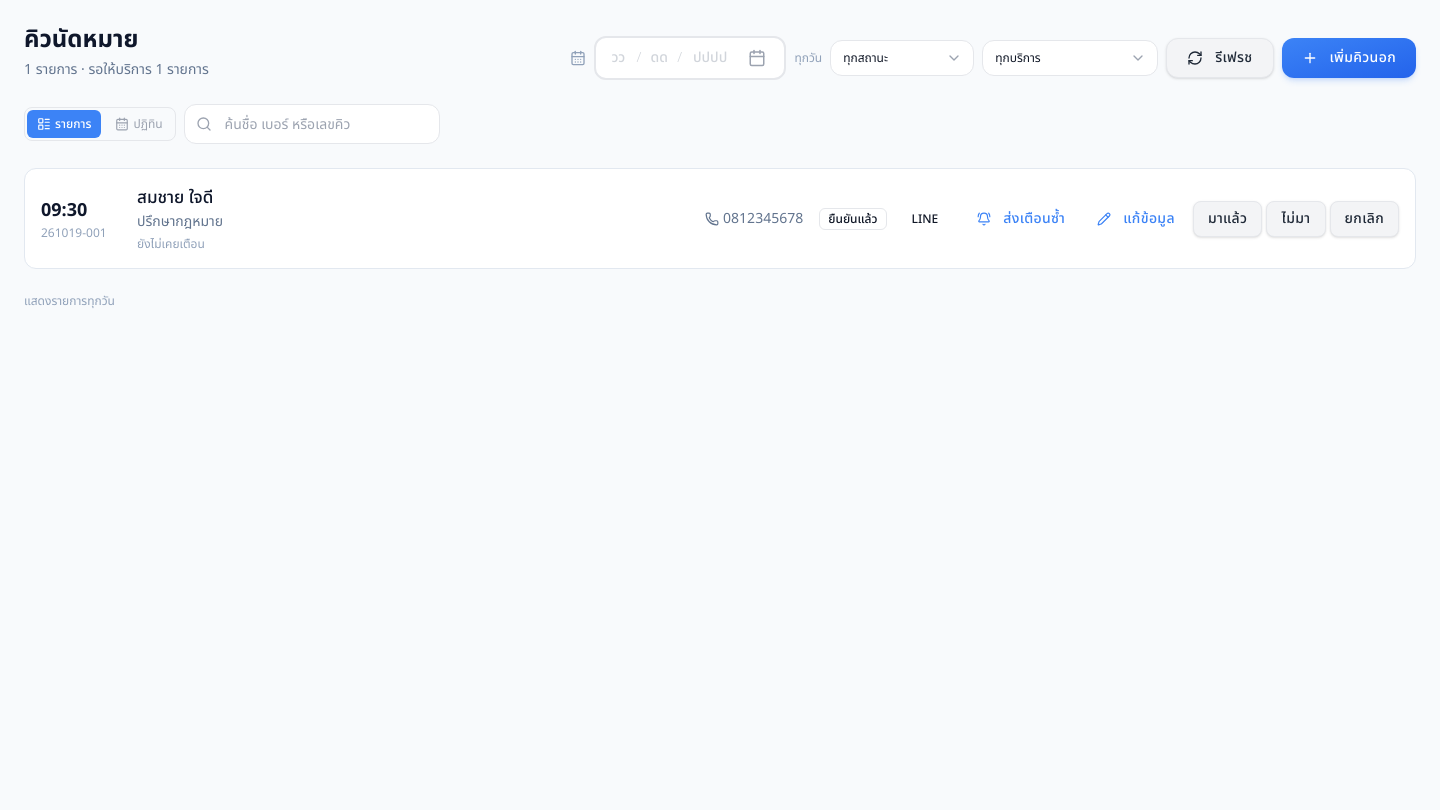
it: reminder resend › confirms before resending and updates the row
Check: the list is shown, box 24,168 -> 1416,269
Click the button with aria-label "ส่งเตือนซ้ำคิว 261019-001". click: {"x": 1021, "y": 219}
box: 963,201 -> 1079,237
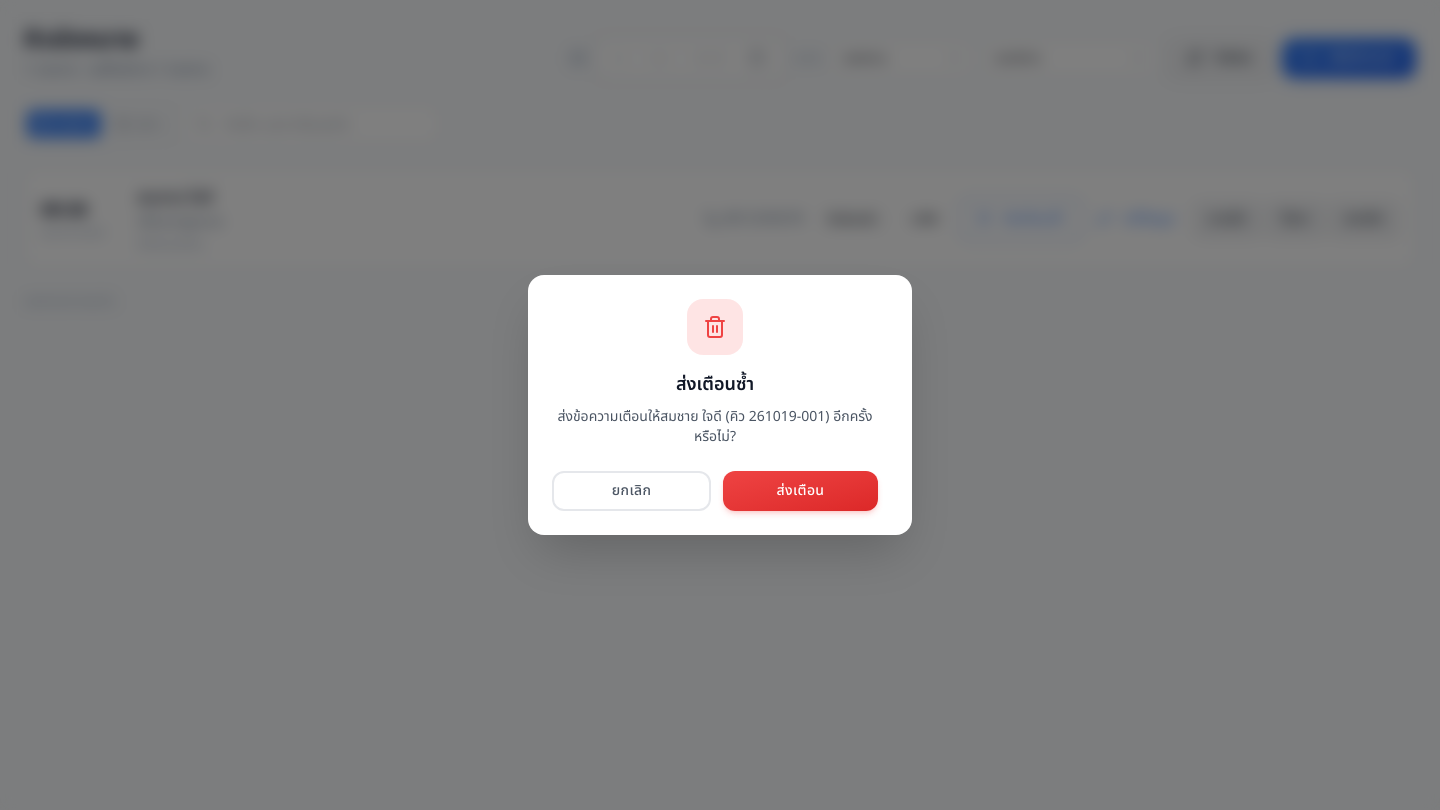
Click the button "ส่งเตือน". click: {"x": 800, "y": 491}
box: 723,471 -> 878,511
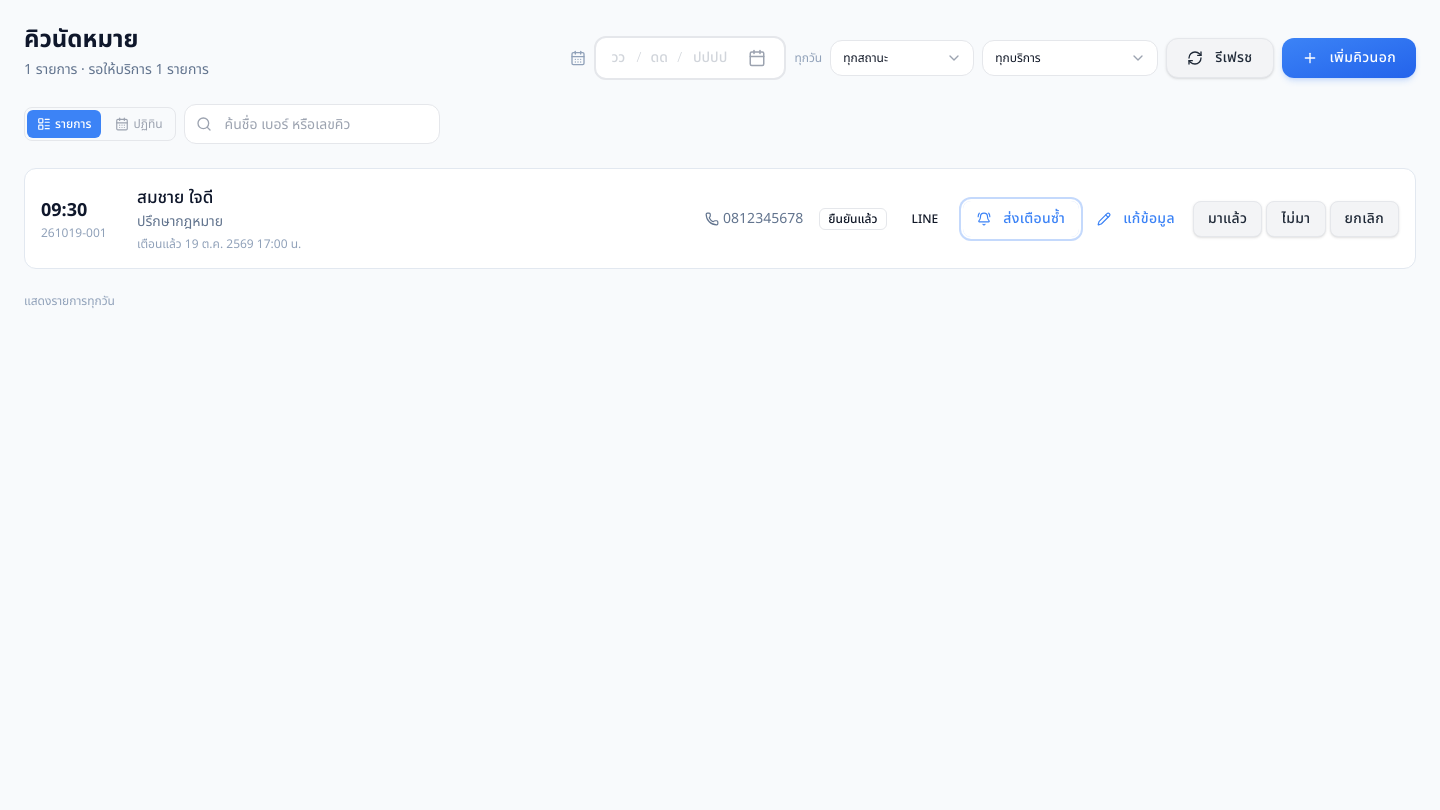
Check: the text "เตือนแล้ว 19 ต.ค. 2569 17:00 น." is shown, box 137,235 -> 301,253
